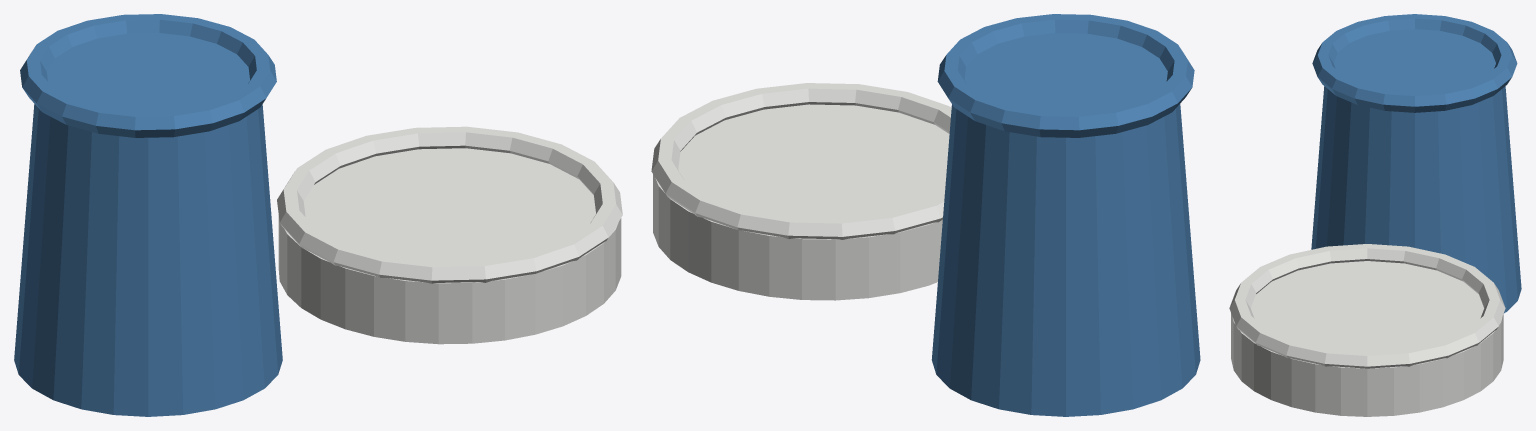
Rendered from bucket_bowl_blue.glb.
3 renders of one model, left to right at view 1: azimuth 30°, elevation 25°; view 2: azimuth 150°, elevation 25°; view 3: azimuth 270°, elevation 25°, orthographic. The views are drawn at different scales.
Visible parts, largest first — view 1: water bucket, wash bowl, bowl rim, bucket rim; view 2: water bucket, wash bowl, bowl rim, bucket rim; view 3: water bucket, wash bowl, bowl rim, bucket rim.
Boxes of the visible parts, box(x1,y1,x2,y2) form: water bucket: box(14, 33, 282, 416); wash bowl: box(278, 148, 621, 344); bowl rim: box(277, 126, 622, 283); bucket rim: box(20, 14, 276, 137); water bucket: box(931, 33, 1200, 416); wash bowl: box(653, 104, 949, 300); bowl rim: box(651, 83, 951, 239); bucket rim: box(937, 14, 1194, 137); water bucket: box(1311, 29, 1521, 313); wash bowl: box(1231, 261, 1503, 416); bowl rim: box(1229, 244, 1505, 368); bucket rim: box(1312, 14, 1517, 112).
Size of the model in its own units: 0.833 by 0.4356 by 0.493.
